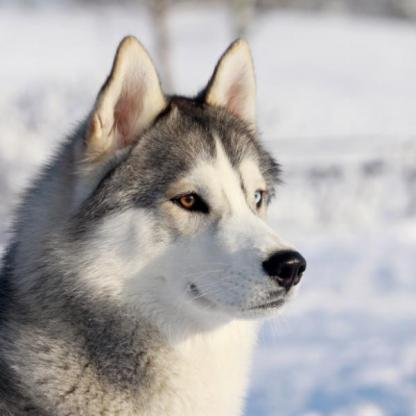husky: (1, 37, 308, 416)
